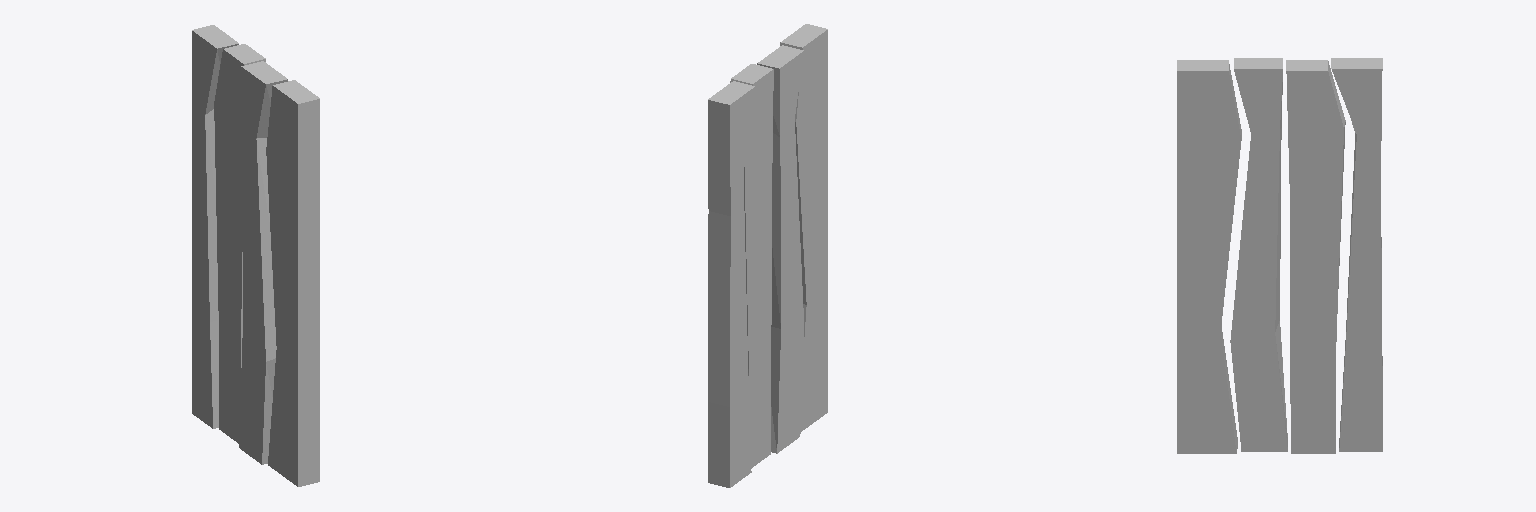
Rendered from wood_wall.obj.
3 views of the same model, side by side, from view 1: azimuth 30°, elevation 25°; view 2: azimuth 150°, elevation 25°; view 3: azimuth 270°, elevation 25° (orthographic).
Size of the model in its own units: 0.19 by 2.64 by 1.28.